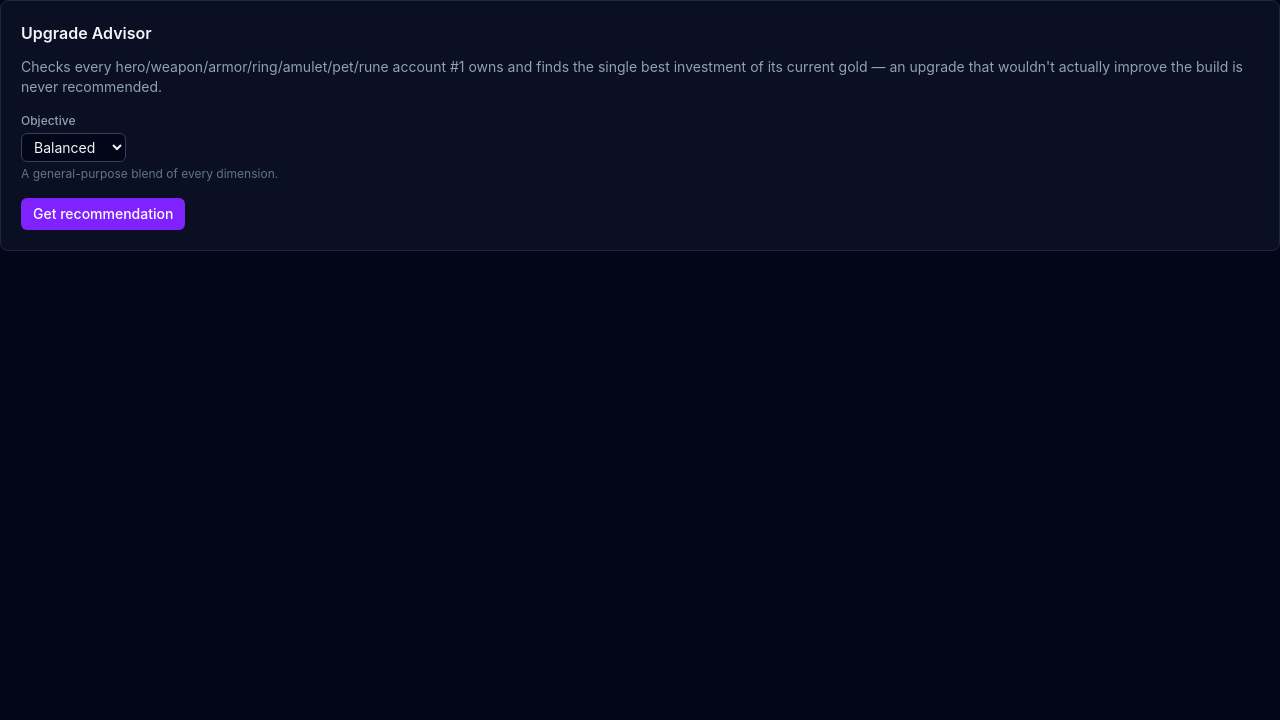
Test: UpgradeAdvisorPage › only marks the top-ranked item as recommended, even when a lower-ranked item from a different category shares the same catalog_id
Step 1. Click the button "Get recommendation" → point(103, 214), box 21,198 -> 185,230
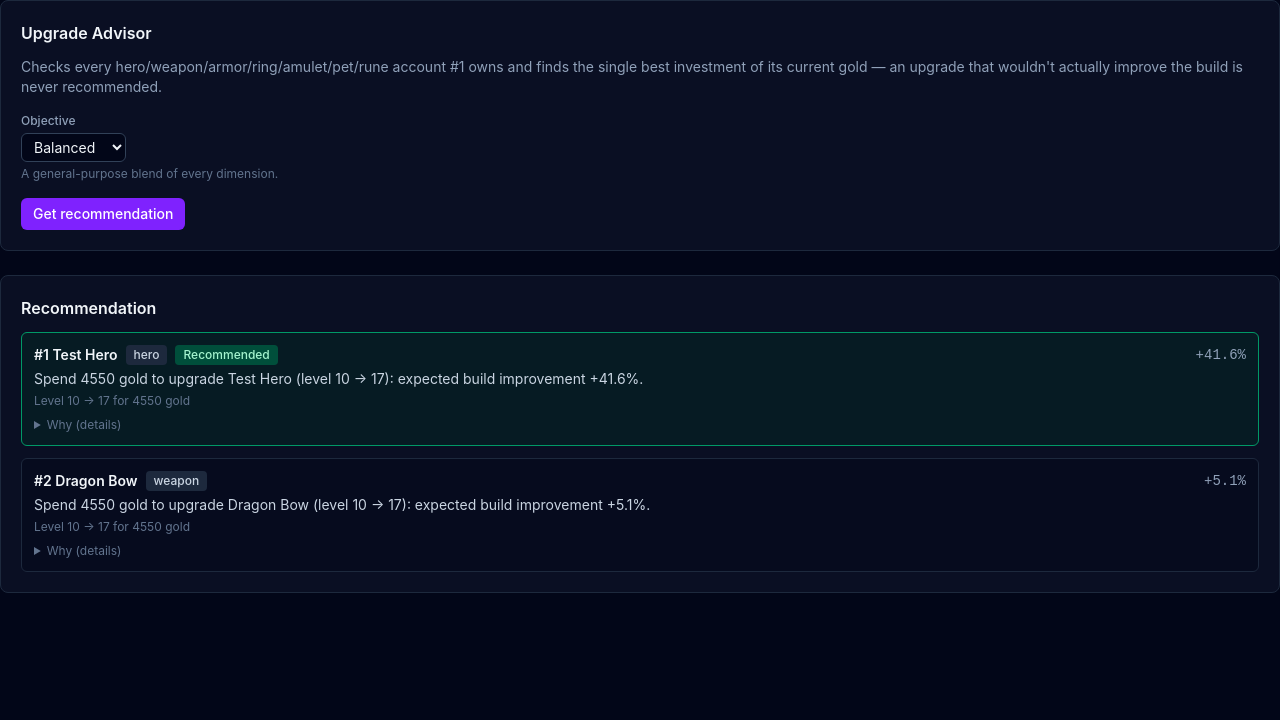
Expected: the text "Spend 4550 gold to upgrade Dragon Bow (level 10 -> 17): expected build improvement +5.1%." is shown, 34,496 -> 650,513
Expected: the text "Recommended" is shown once, 176,345 -> 278,365
